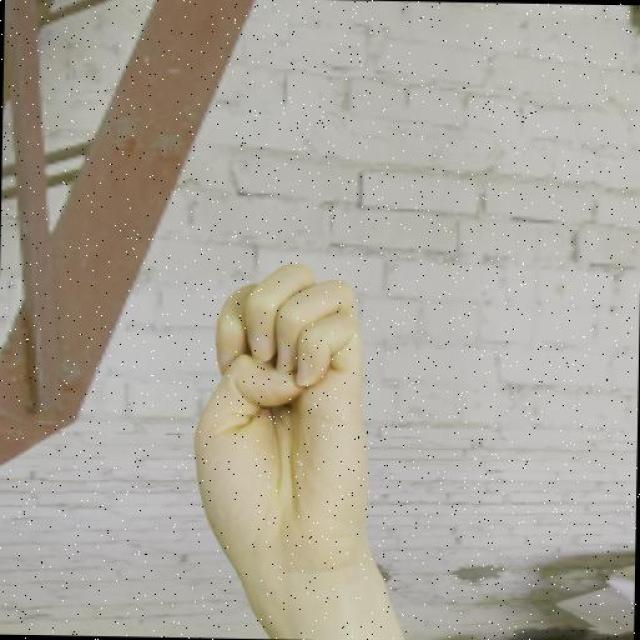E: (190, 259, 386, 586)
